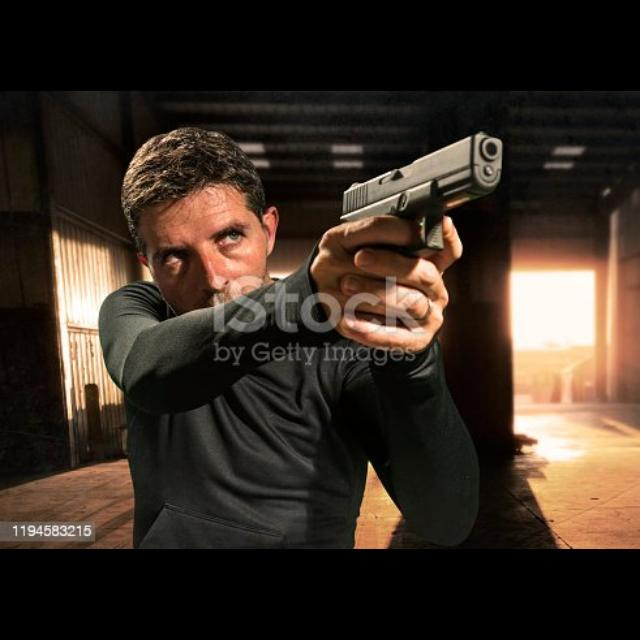handgun: (336, 127, 508, 261)
